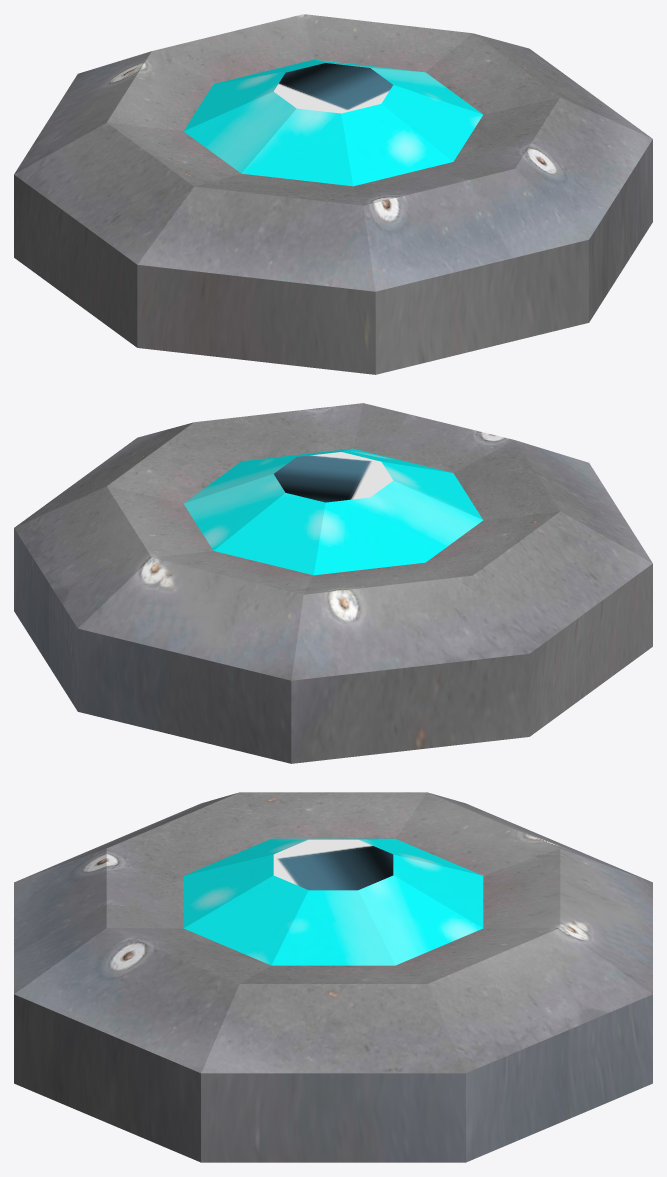
The model's file is CenterConsole.fbx.
The picture shows the model from 3 angles, top to bottom: view 1: azimuth 30°, elevation 25°; view 2: azimuth 150°, elevation 25°; view 3: azimuth 270°, elevation 25°; orthographic projection. The views are drawn at different scales.
Parts seen in each view (by area): view 1: Circle.026; view 2: Circle.026; view 3: Circle.026.
Part boxes in pixels (box(x1,y1,x2,y2)): Circle.026: box(14, 14, 652, 374); Circle.026: box(14, 403, 652, 763); Circle.026: box(14, 792, 652, 1162).
Size of the model in its own units: 24.78 by 6.96 by 24.78.
